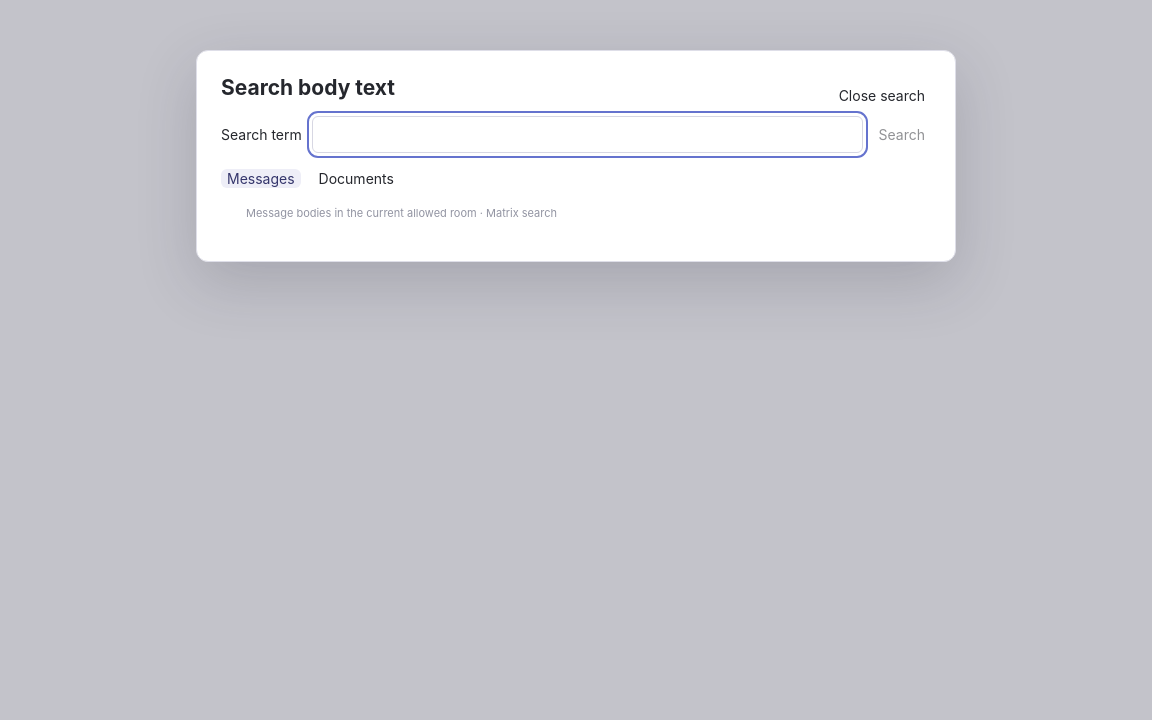
Test: retains results and cursor on a failed next page, then retries and deduplicates
Type "needle" into the field named "Search body text". click: (587, 135)
box: x1=312 y1=116 x2=863 y2=153
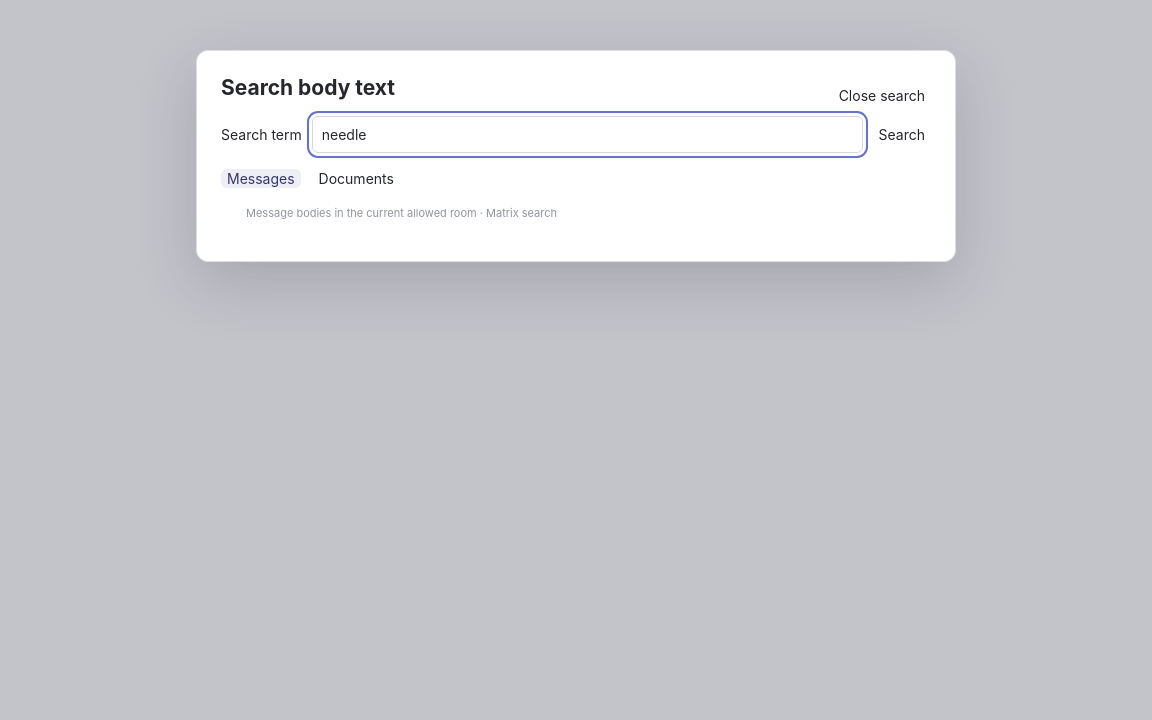
Click the button "Search". click: (902, 135)
box: x1=872 y1=125 x2=931 y2=144
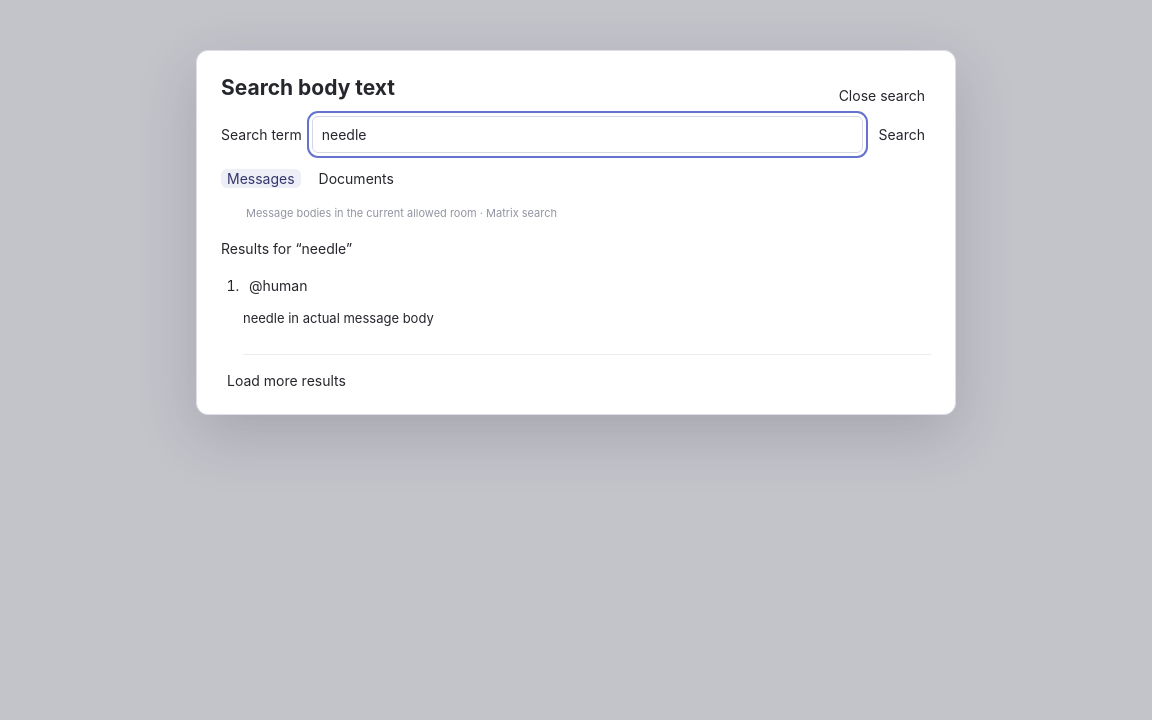
Now the text "needle in actual message body" is shown, box x1=243 y1=310 x2=434 y2=326
Click the button "Load more results". click: (286, 381)
box: x1=221 y1=371 x2=352 y2=390
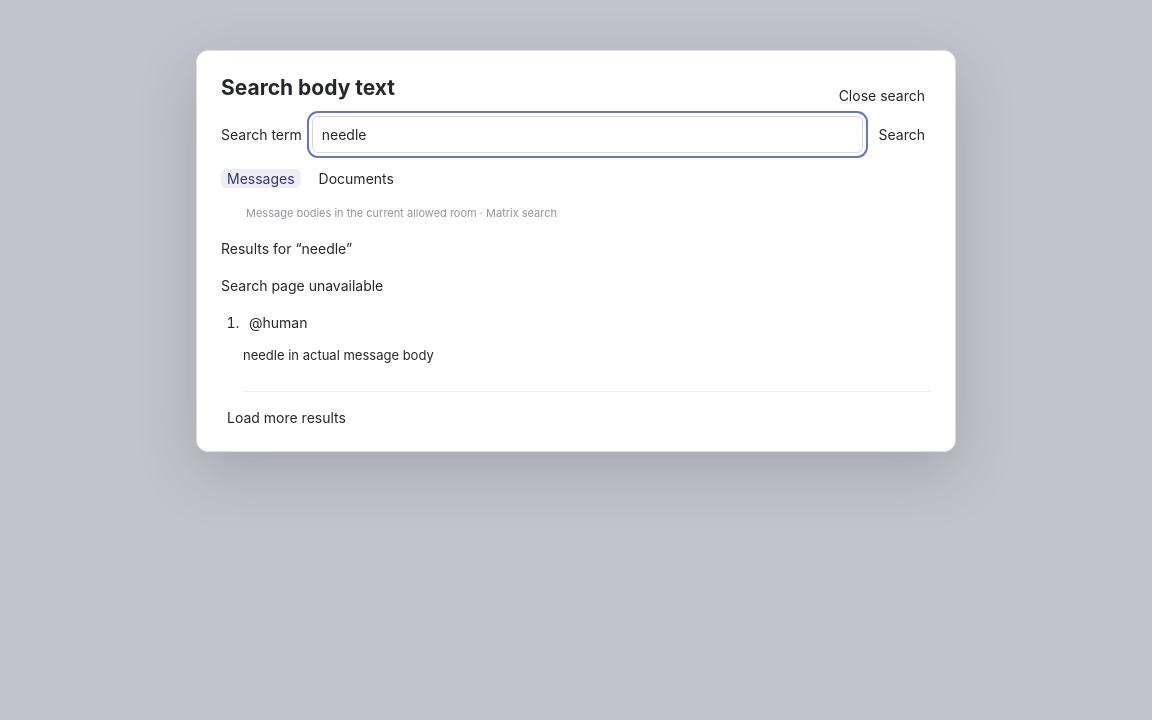
Now the text "needle in actual message body" is shown, box x1=243 y1=347 x2=434 y2=363
Now the text "Search page unavailable" is shown, box x1=221 y1=277 x2=383 y2=294
Click the button "Load more results". click: (286, 418)
box: x1=221 y1=408 x2=352 y2=427
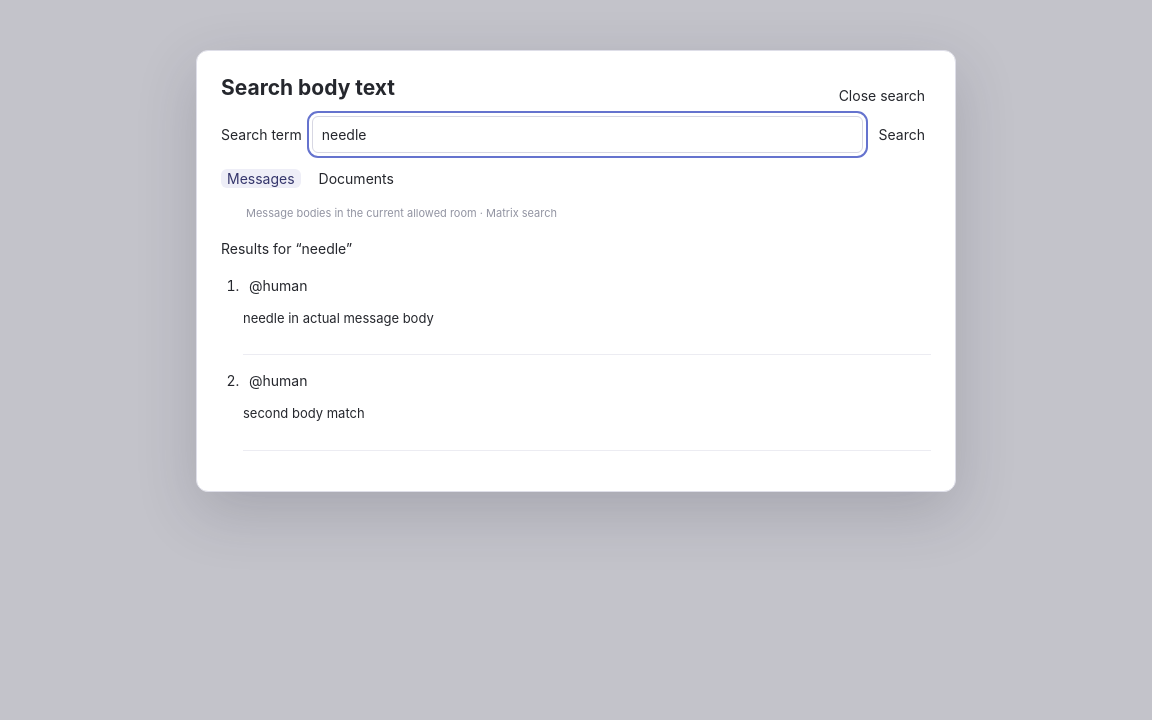
Now the text "second body match" is shown, box x1=243 y1=405 x2=365 y2=421
Now the text "needle in actual message body" is shown once, box x1=243 y1=310 x2=434 y2=326
